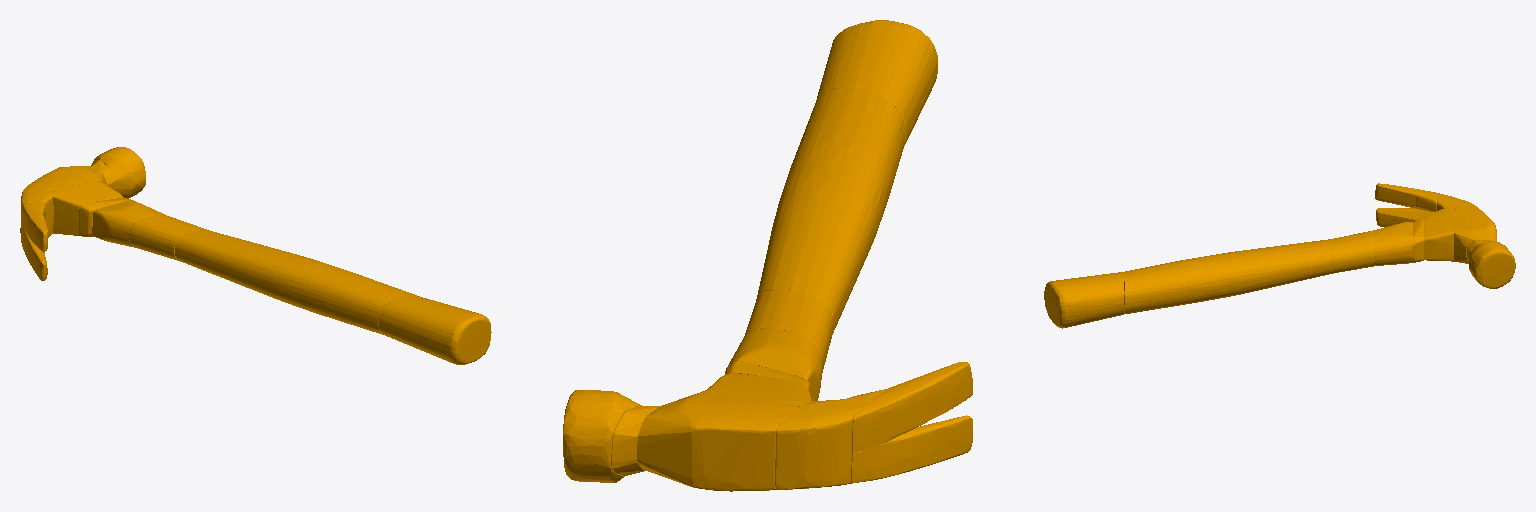
The robot description file, URDF, robot "048_hammer":
<?xml version="1.0" encoding="UTF-8"?>
<robot name="048_hammer">
	<link name="base">
		<collision>
			<geometry>
				<mesh filename="..\vhacd\048_hammer_vhacd.obj" scale="1.0 1.0 1.0"/>
			</geometry>
			<origin xyz="0 0 0"/>
			<contact_coefficients mu="0.24" />
		</collision>
		<visual>
			<geometry>
				<mesh filename="..\vhacd\048_hammer_vhacd.obj" scale="1.0 1.0 1.0"/>
			</geometry>
			<origin xyz="0 0 0"/>
		</visual>
		<inertial>
			<mass value="0"/>
			<inertia ixx="0.0" ixy="0.0" ixz="0.0" iyy="0.0" iyz="-0.0" izz="0.0" />
			<origin xyz="-0.02857086106900101 -0.012672672853860268 0.01565348414408899"/>
		</inertial>
	</link>
</robot>

--- Render facts (derived) ---
3 views of the same robot in one strip: view 1: azimuth 30°, elevation 25°; view 2: azimuth 150°, elevation 25°; view 3: azimuth 270°, elevation 25° (orthographic).
Robot: 048_hammer — 1 links, 0 joints (none); root link base; default pose: every joint at zero.
Visible links, largest first — view 1: base; view 2: base; view 3: base.
Boxes of the visible links, x1,y1,x2,y2 form: base: (20, 147, 491, 364); base: (563, 20, 972, 491); base: (1044, 183, 1515, 328).
Bounding box of the posed robot: 0.1825 × 0.333 × 0.0332 m (x, y, z).
Meshes: 1 distinct files referenced, 1 mesh visuals loaded (1 OBJ).